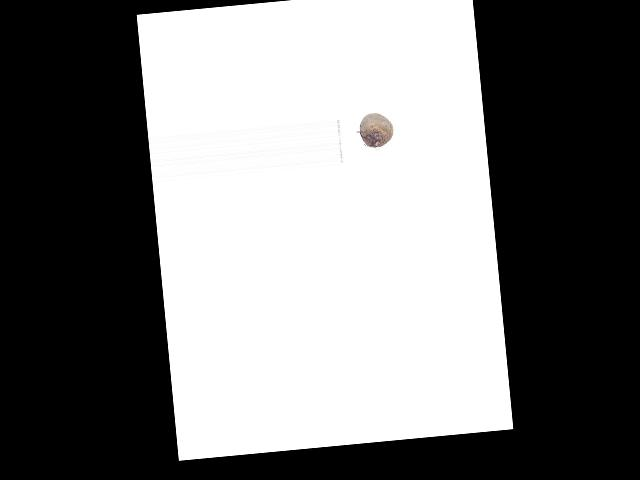beet: (358, 110, 394, 147)
